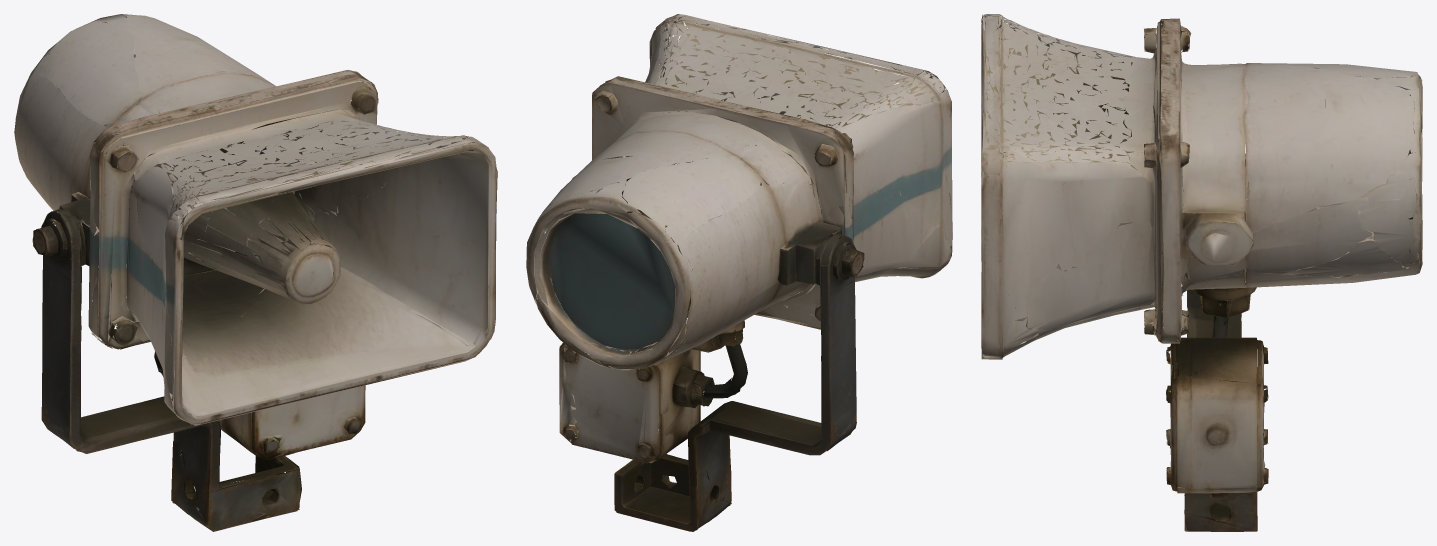
The model's file is ch03_pa_speaker.glb.
3 renders of one model, left to right at view 1: azimuth 30°, elevation 25°; view 2: azimuth 150°, elevation 25°; view 3: azimuth 270°, elevation 25°, orthographic. The views are drawn at different scales.
Parts seen in each view (by area): view 1: material; view 2: material; view 3: material.
Boxes of the visible parts, x1,y1,x2,y2 form: material: [14, 14, 497, 531]; material: [526, 14, 952, 531]; material: [981, 14, 1422, 531].
Bounding box in the file's own units: 0.6389 × 0.7865 × 0.7404.
1 material, 1 textured.
